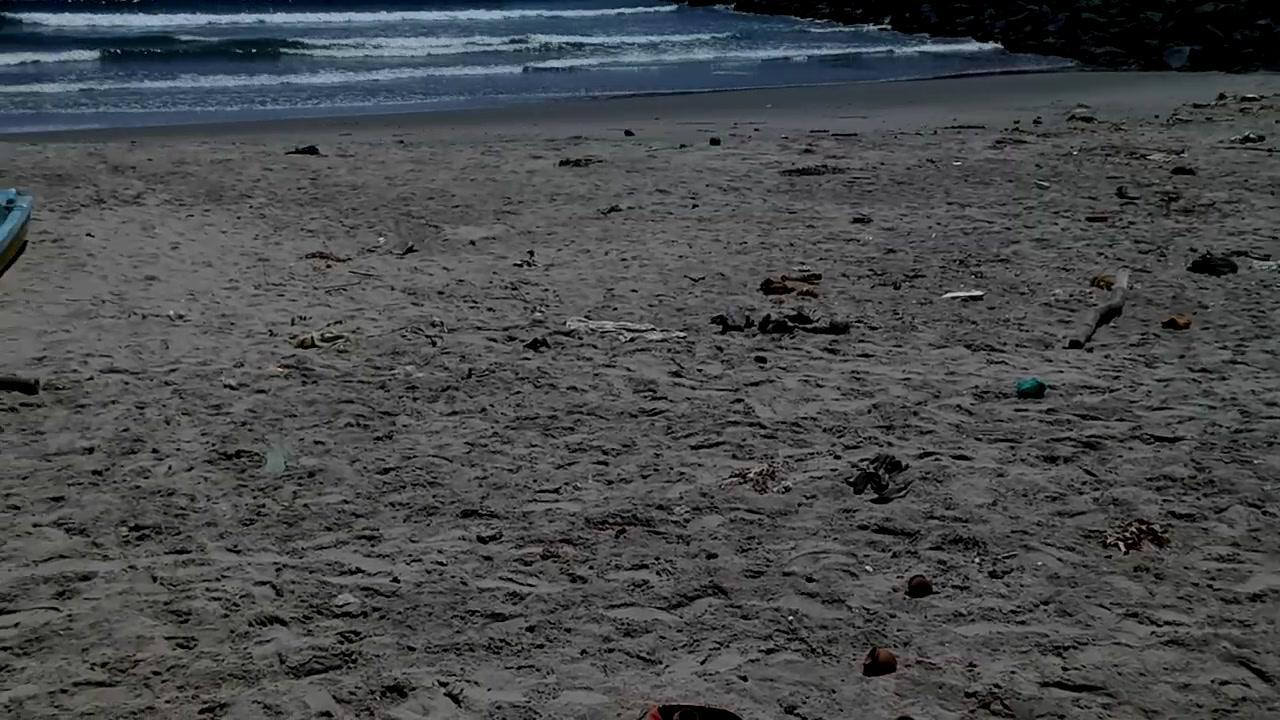large collection of objects: (0, 182, 36, 279)
obj: (708, 259, 852, 342), (1062, 262, 1130, 352), (550, 313, 691, 350), (851, 446, 922, 510), (1095, 516, 1177, 559), (1186, 247, 1244, 278), (640, 703, 746, 719), (288, 332, 354, 352), (1130, 146, 1194, 166), (934, 285, 994, 305), (862, 648, 900, 678), (0, 372, 43, 397), (906, 568, 939, 600), (1226, 128, 1272, 144), (1012, 381, 1046, 399), (1160, 316, 1194, 332), (284, 143, 322, 157)
sand/background: (0, 0, 1279, 145)
